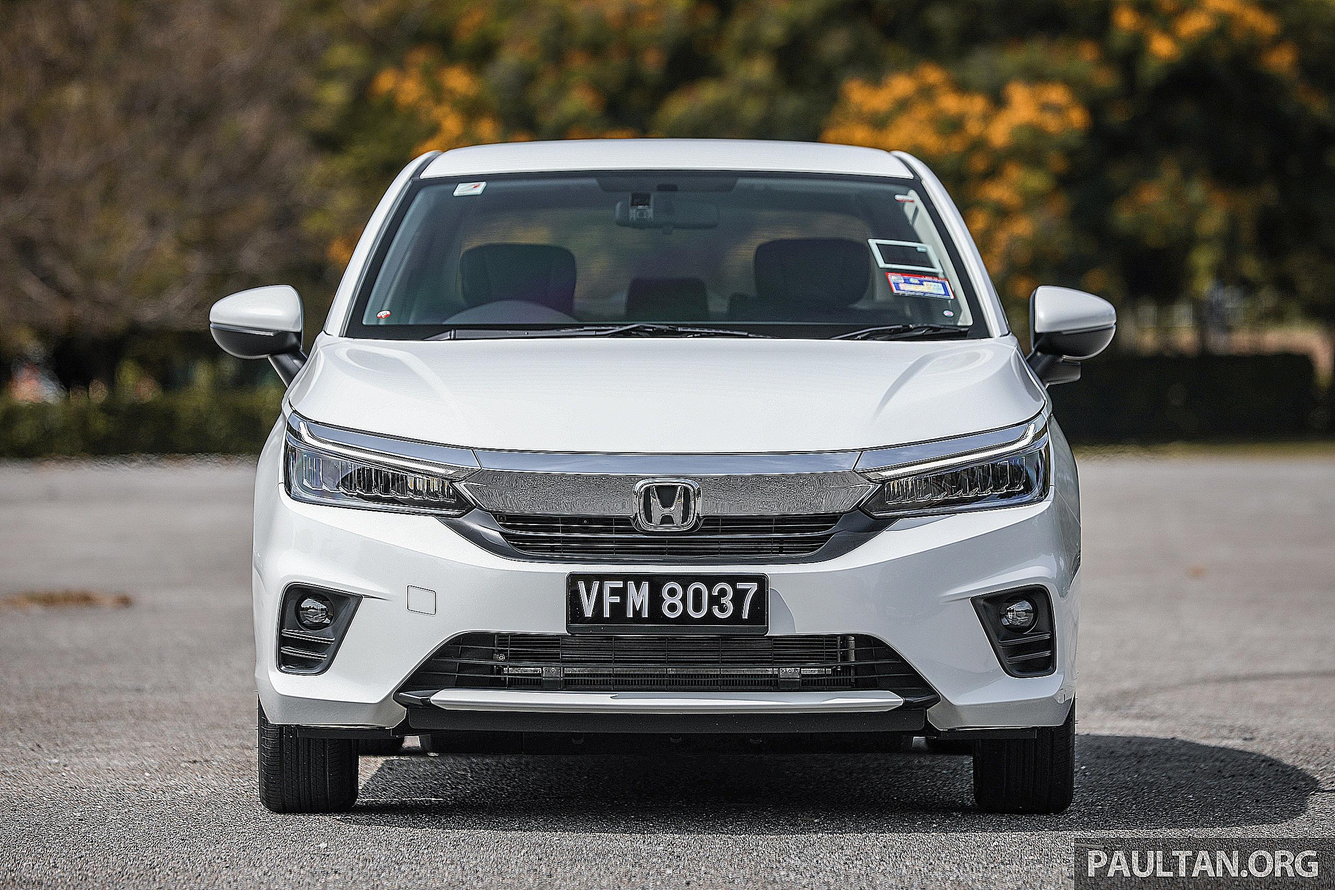Car hood: (282, 330, 1051, 464)
Front bumper: (244, 485, 1093, 745)
Headlight - -L-: (848, 400, 1066, 529)
Headlight - -R-: (278, 407, 488, 524)
Side mirror - -L-: (1014, 278, 1123, 388)
Side mirror - -R-: (202, 278, 314, 393)
